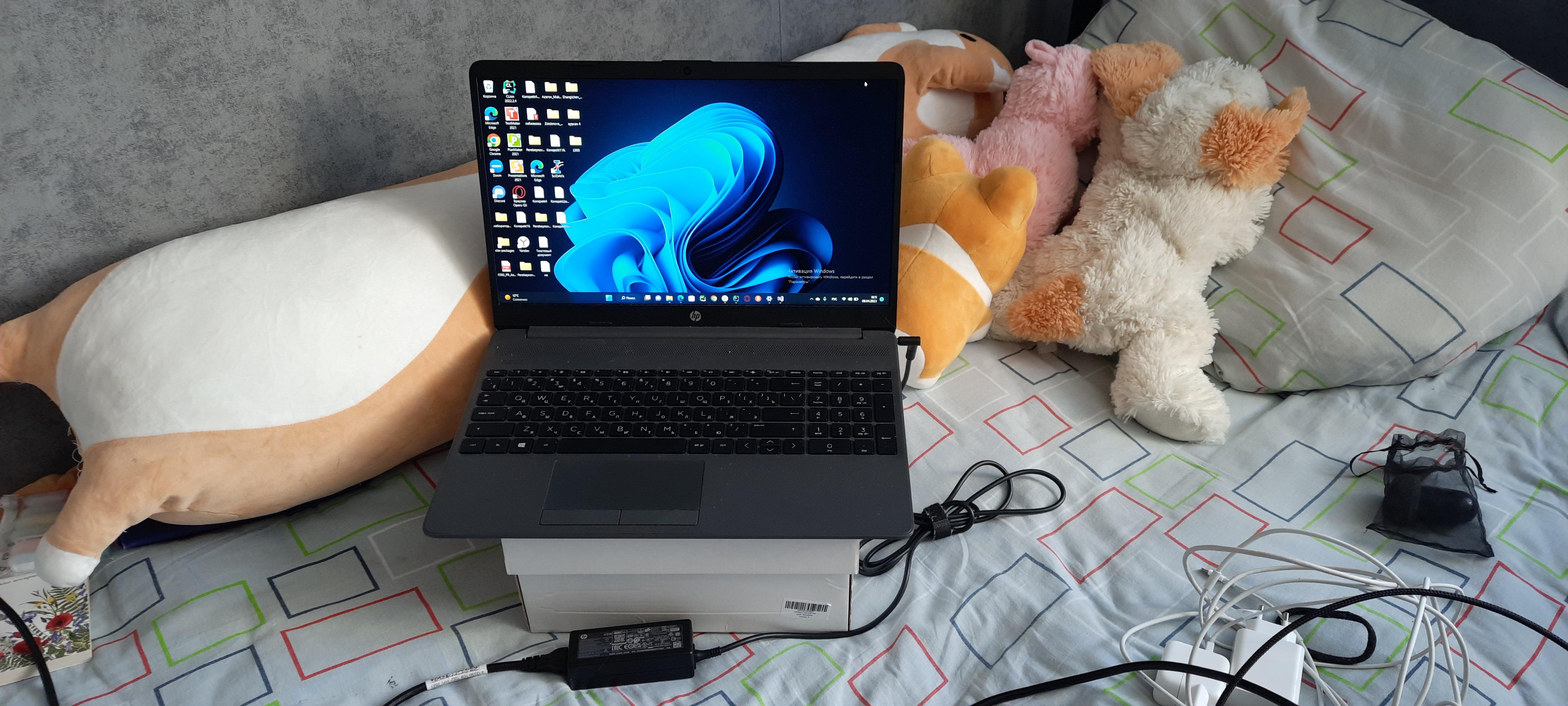monitor: (461, 51, 910, 325)
